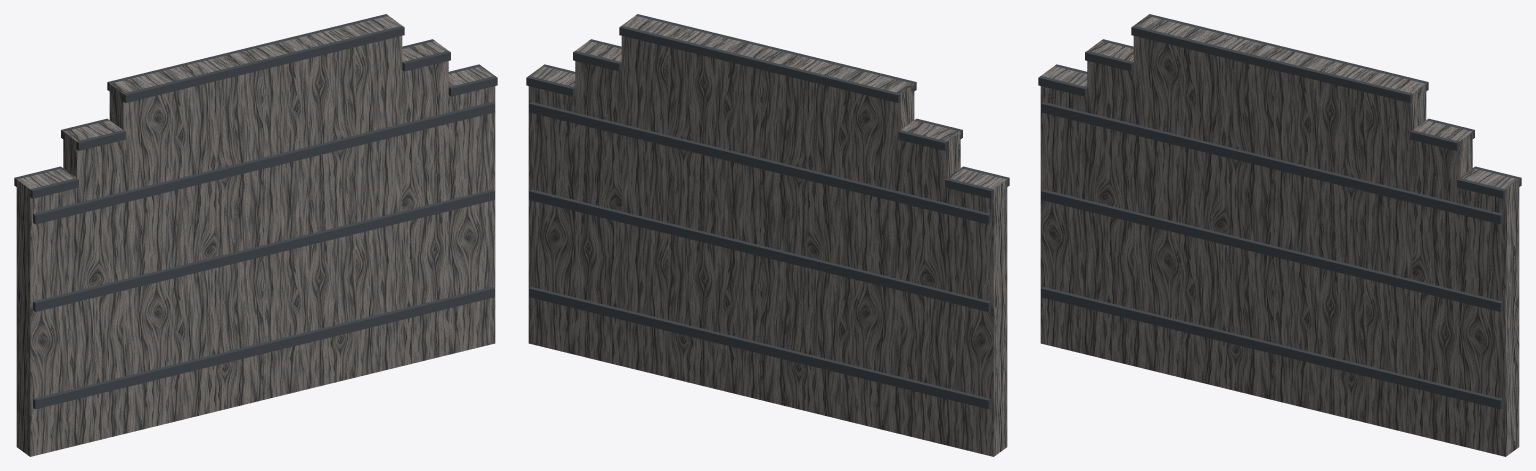
Rendered from gate_big.glb.
3 renders of one model, left to right at view 1: azimuth 30°, elevation 25°; view 2: azimuth 150°, elevation 25°; view 3: azimuth 330°, elevation 25°, orthographic.
Parts seen in each view (by area): view 1: Oak_Plank.018, Oak_Plank.016, Oak_Plank.019, Oak_Plank.021, Oak_Plank.023, Oak_Plank.022, Oak_Plank.020, Oak_Plank.017, Oak_Plank.024, Oak_Plank.025, Continuous_Iron_Strap.008, Continuous_Iron_Strap.009 (+11 smaller); view 2: Oak_Plank.018, Oak_Plank.016, Oak_Plank.019, Oak_Plank.021, Oak_Plank.023, Oak_Plank.022, Oak_Plank.020, Oak_Plank.017, Oak_Plank.024, Oak_Plank.025, Continuous_Iron_Strap.011, Continuous_Iron_Strap.012 (+11 smaller); view 3: Oak_Plank.023, Oak_Plank.025, Oak_Plank.022, Oak_Plank.020, Oak_Plank.018, Oak_Plank.019, Oak_Plank.021, Oak_Plank.024, Oak_Plank.017, Oak_Plank.016, Continuous_Iron_Strap.008, Continuous_Iron_Strap.009 (+11 smaller).
Boxes of the visible parts, x1,y1,x2,y2 form: Oak_Plank.018: (109, 72, 169, 433); Oak_Plank.016: (16, 168, 76, 456); Oak_Plank.019: (156, 61, 216, 422); Oak_Plank.021: (249, 38, 309, 399); Oak_Plank.023: (342, 16, 402, 377); Oak_Plank.022: (296, 27, 355, 388); Oak_Plank.020: (203, 50, 262, 411); Oak_Plank.017: (63, 120, 123, 445); Oak_Plank.024: (402, 41, 448, 365); Oak_Plank.025: (448, 66, 495, 354); Continuous_Iron_Strap.008: (33, 287, 494, 409); Continuous_Iron_Strap.009: (33, 189, 494, 311); Oak_Plank.018: (854, 72, 914, 433); Oak_Plank.016: (947, 168, 1007, 456); Oak_Plank.019: (807, 61, 867, 422); Oak_Plank.021: (714, 38, 774, 399); Oak_Plank.023: (621, 16, 681, 377); Oak_Plank.022: (668, 27, 727, 388); Oak_Plank.020: (761, 50, 820, 411); Oak_Plank.017: (900, 120, 960, 445); Oak_Plank.024: (575, 41, 621, 365); Oak_Plank.025: (528, 66, 575, 354); Continuous_Iron_Strap.011: (529, 287, 990, 409); Continuous_Iron_Strap.012: (529, 189, 990, 311); Oak_Plank.023: (1366, 72, 1426, 433); Oak_Plank.025: (1459, 168, 1519, 456); Oak_Plank.022: (1319, 61, 1379, 422); Oak_Plank.020: (1226, 38, 1286, 399); Oak_Plank.018: (1133, 16, 1193, 377); Oak_Plank.019: (1180, 27, 1239, 388); Oak_Plank.021: (1273, 50, 1332, 411); Oak_Plank.024: (1412, 120, 1472, 445); Oak_Plank.017: (1087, 41, 1133, 365); Oak_Plank.016: (1040, 66, 1087, 354); Continuous_Iron_Strap.008: (1041, 287, 1502, 409); Continuous_Iron_Strap.009: (1041, 189, 1502, 311).
Bounding box in the file's own units: 10 × 7 × 0.68.
Materials: 2 (1 with a texture image).
